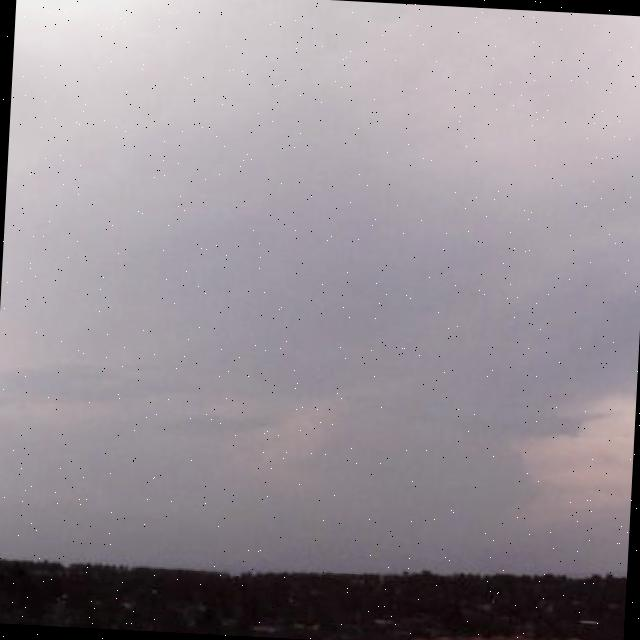St: (1, 39, 640, 485)
